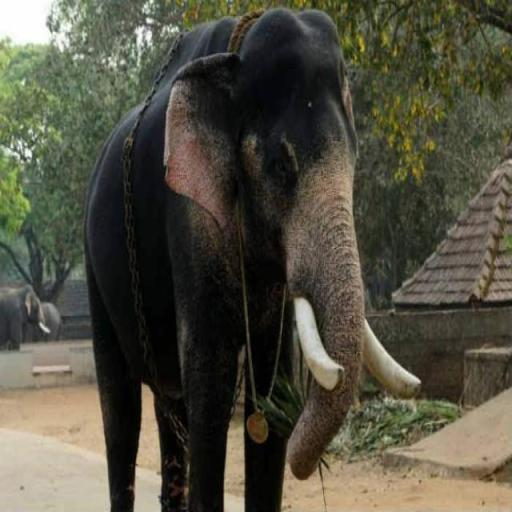Elephant: (82, 6, 421, 511), (0, 282, 50, 350)
